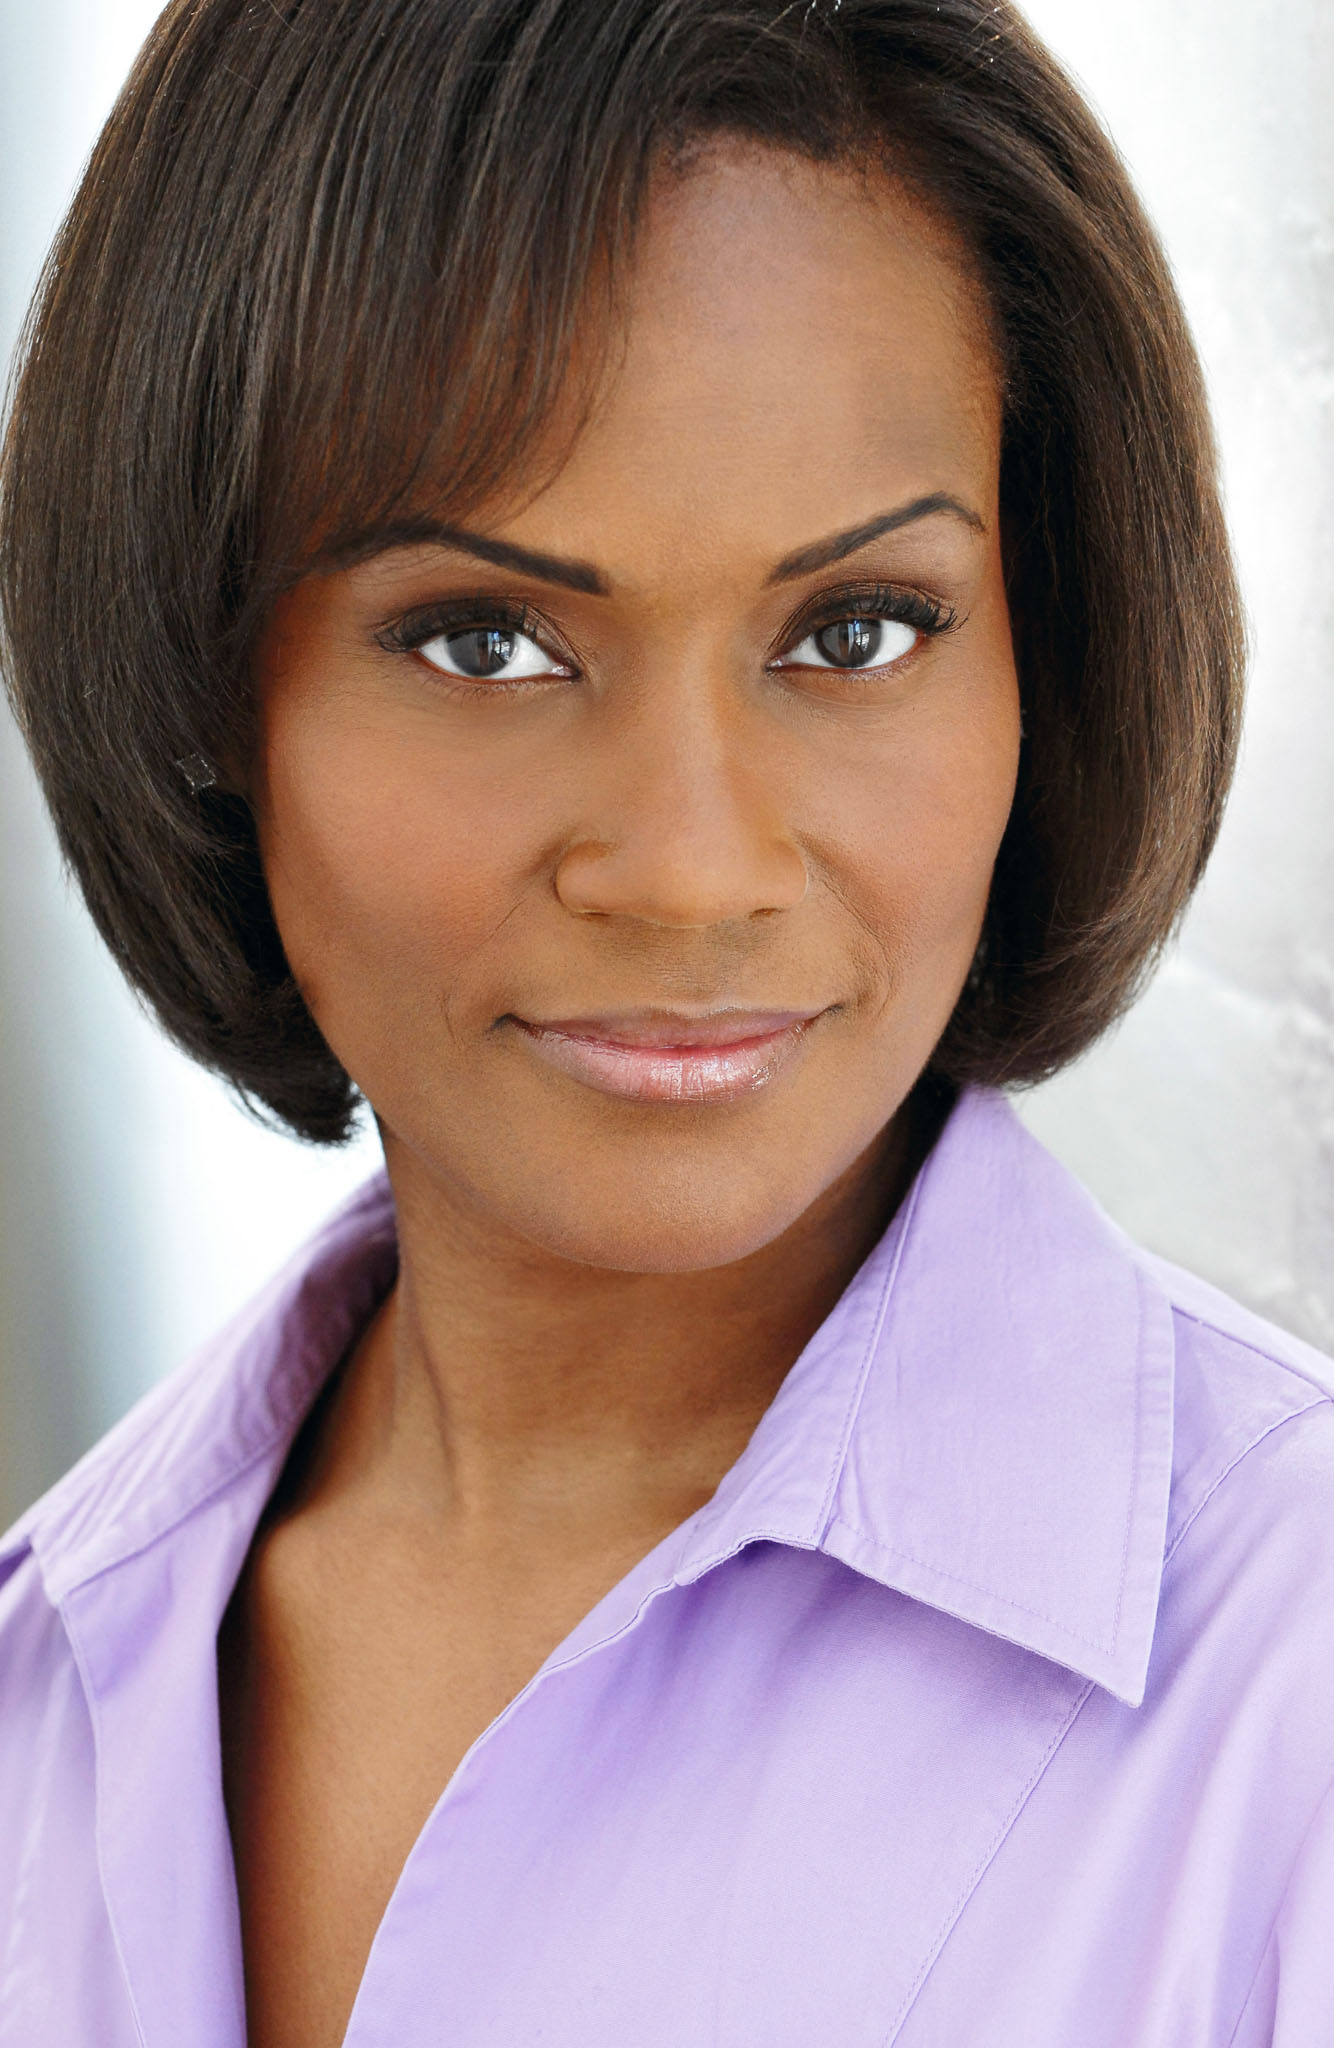without_mask: (301, 452, 963, 1108)
